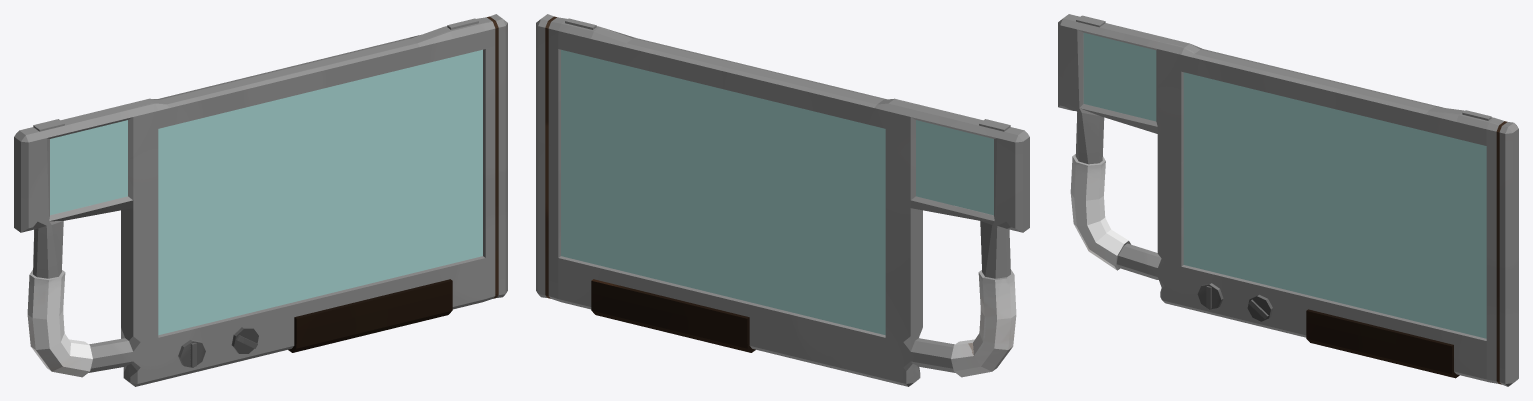
Rendered from Pantalla 1.fbx.
3 renders of one model, left to right at view 1: azimuth 30°, elevation 25°; view 2: azimuth 150°, elevation 25°; view 3: azimuth 330°, elevation 25°, orthographic. The views are drawn at different scales.
Parts seen in each view (by area): view 1: Pantalla; view 2: Pantalla; view 3: Pantalla.
Part boxes in pixels (x1,y1,x2,y2): Pantalla: (14,14,507,386); Pantalla: (536,14,1029,386); Pantalla: (1058,14,1518,386).
Size of the model in its own units: 1.98 by 1.11 by 0.127.
